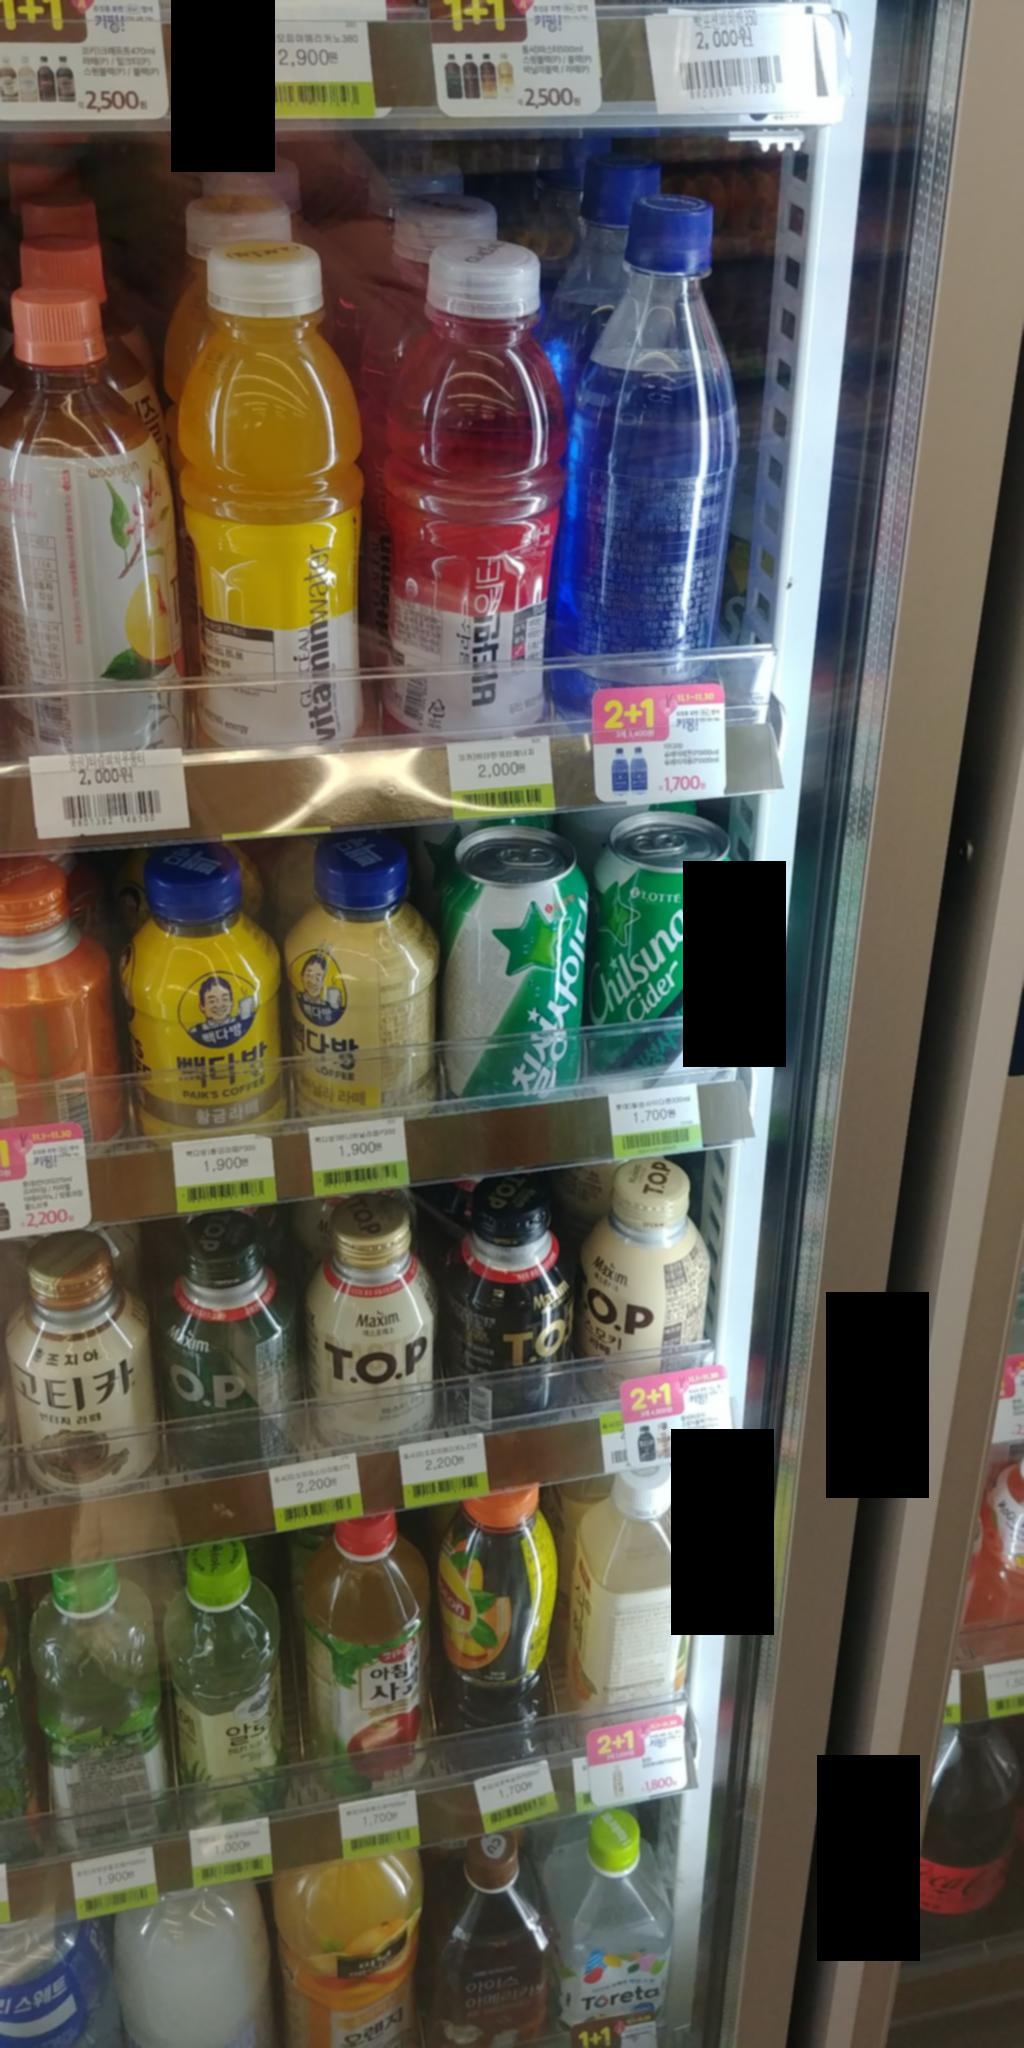TOP_black: (436, 1161, 600, 1439)
chilsungcider: (434, 811, 586, 1126)
